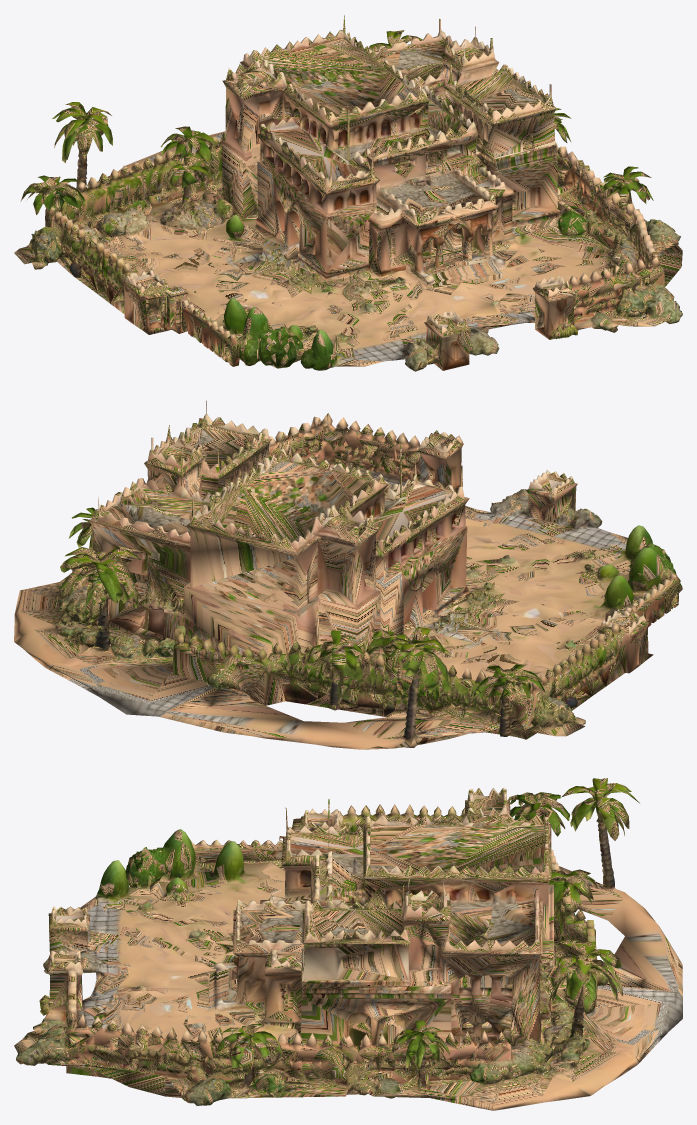
Rendered from Desert_Fortress.glb.
3 renders of one model, top to bottom at view 1: azimuth 30°, elevation 25°; view 2: azimuth 150°, elevation 25°; view 3: azimuth 270°, elevation 25°, orthographic. The views are drawn at different scales.
Visible parts, largest first — view 1: Desert_Fortress; view 2: Desert_Fortress; view 3: Desert_Fortress.
Boxes of the visible parts, left/top/right/bottom form: Desert_Fortress: left=14, top=15, right=682, bottom=371; Desert_Fortress: left=14, top=400, right=682, bottom=749; Desert_Fortress: left=14, top=778, right=682, bottom=1110.
Bounding box in the file's own units: 1.88 × 0.5458 × 1.9.
1 material, 1 textured.
